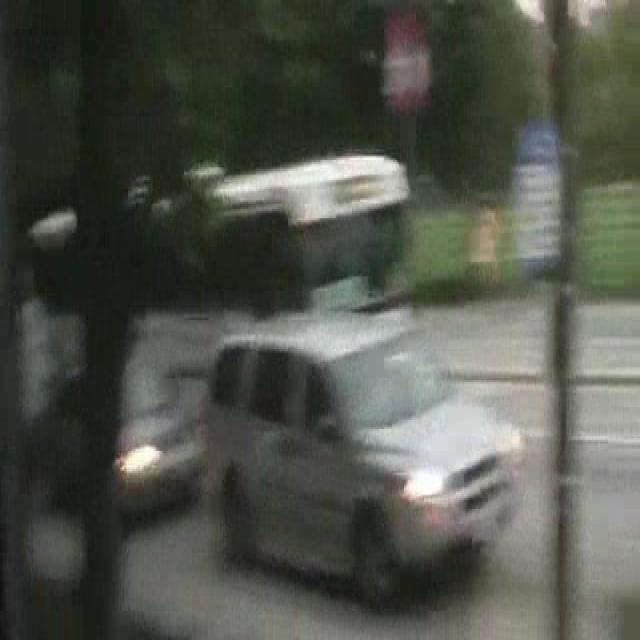other: (498, 414, 534, 488), (109, 436, 162, 484), (400, 460, 444, 500)
